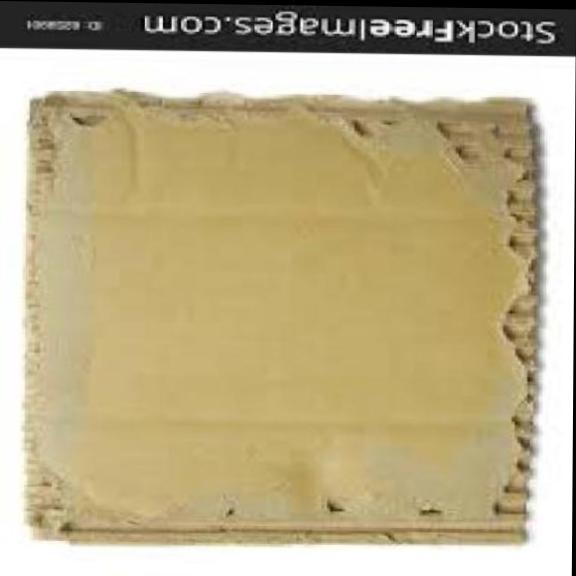Kertas: (20, 92, 539, 552)
